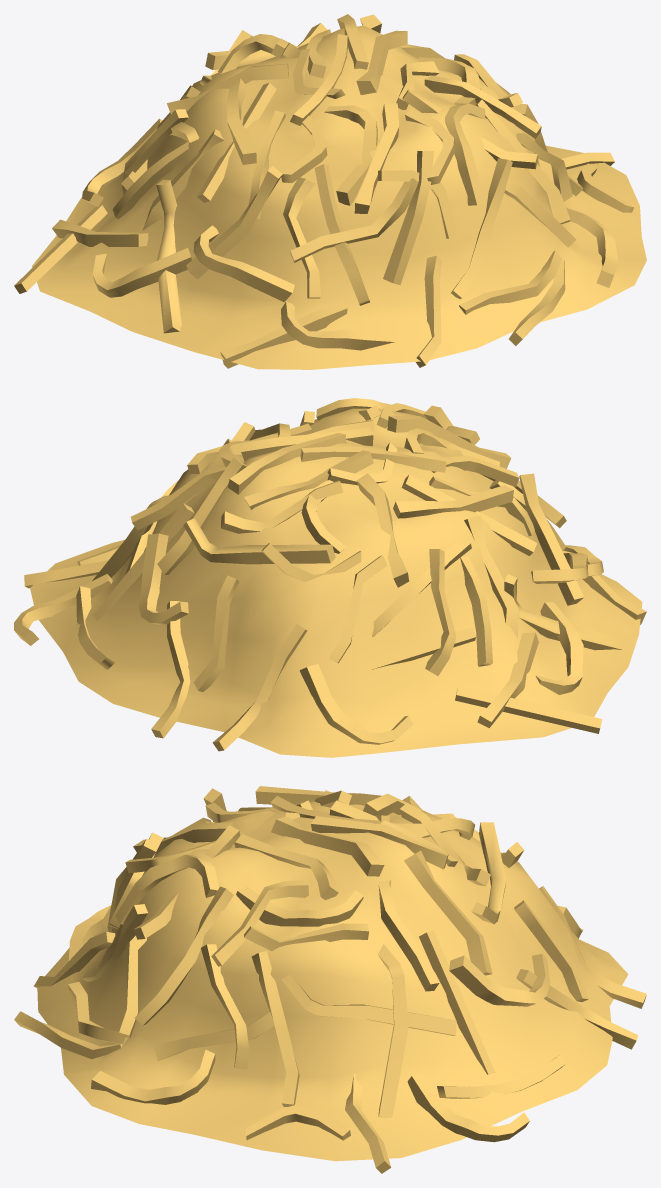
File: FryHeap_Wide.fbx
3 views of the same model, one above another, from view 1: azimuth 30°, elevation 25°; view 2: azimuth 150°, elevation 25°; view 3: azimuth 270°, elevation 25° (orthographic). The views are drawn at different scales.
Visible parts, largest first — view 1: polySurface49; view 2: polySurface49; view 3: polySurface49.
Boxes of the visible parts, x1,y1,x2,y2 form: polySurface49: [14, 14, 646, 369]; polySurface49: [14, 398, 646, 757]; polySurface49: [14, 786, 646, 1173].
Bounding box in the file's own units: 58.65 × 19.48 × 51.89.
